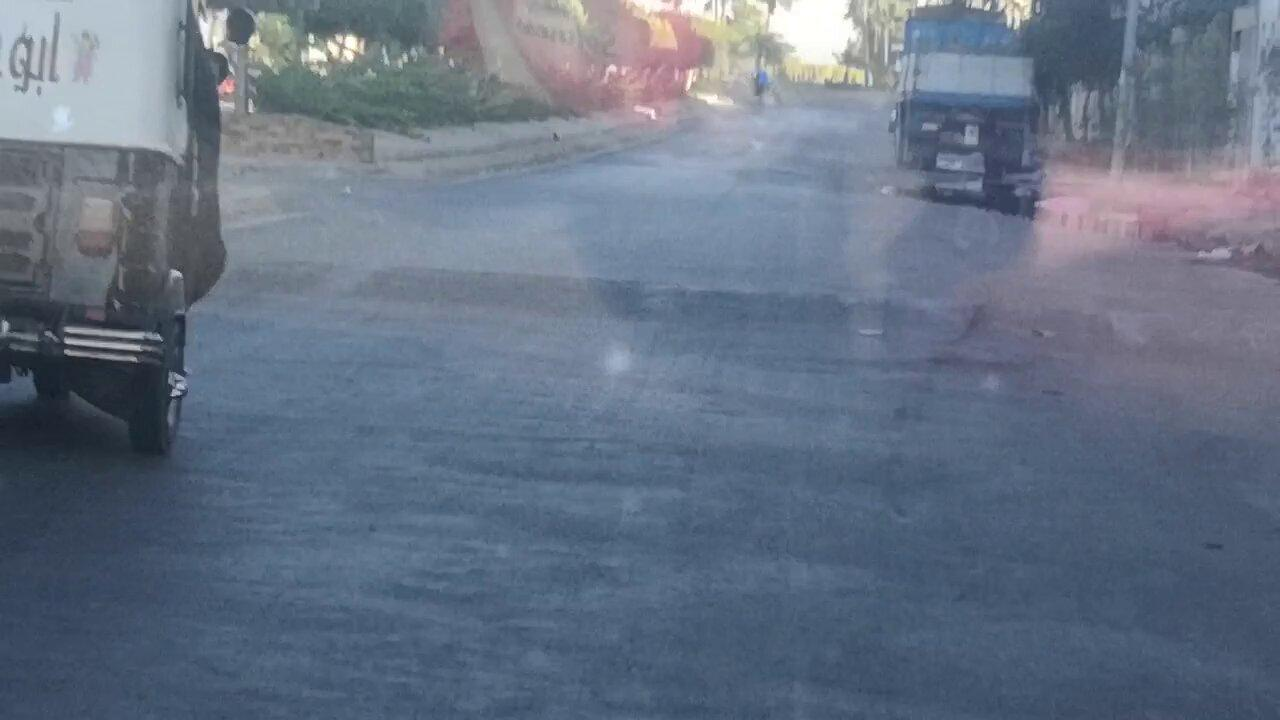Bump: (227, 247, 1280, 365)
